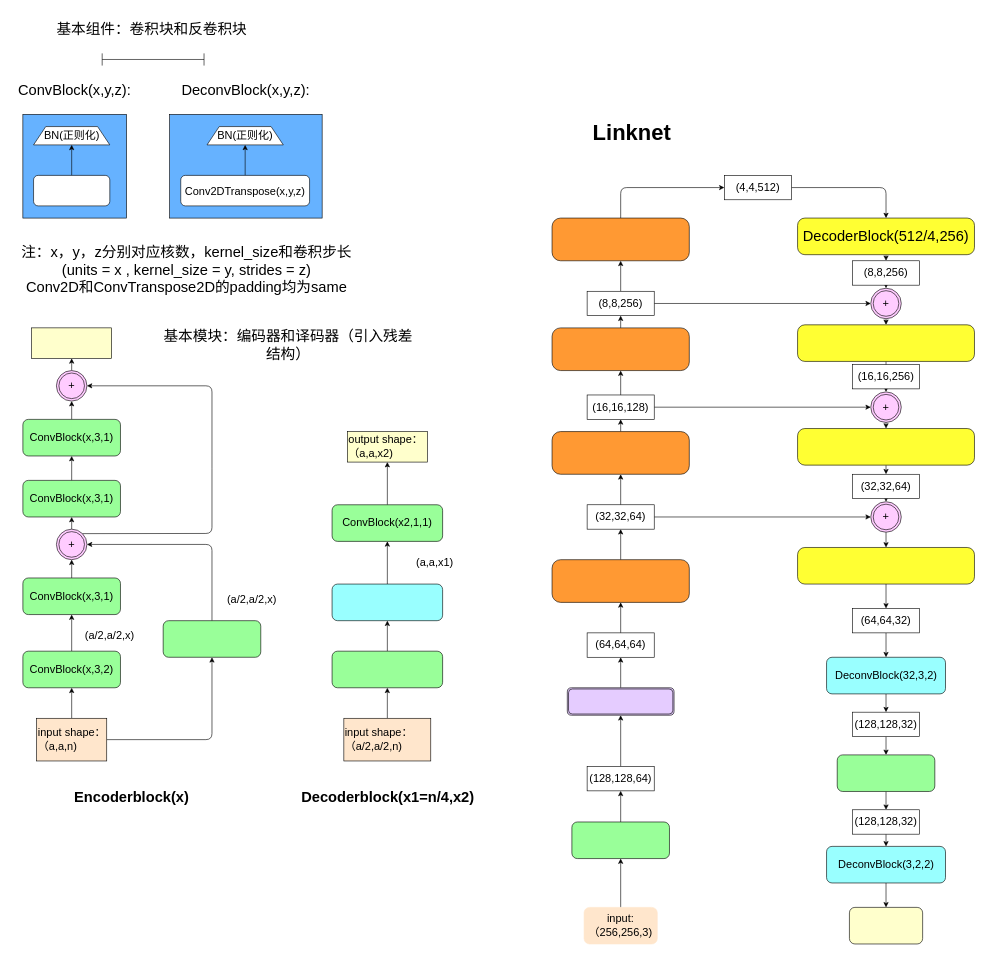
Image size: 985x955. Some labels were removed from this diagram. Here are the shapes that lost their labels. From the top down, the centre of each, then its label:
At (x=71, y=190): "Conv2D(x,y,z)".
At (x=620, y=239): "EncoderBlock(512)".
At (x=71, y=342): "output shape： （a/2,a/2,x)".
At (x=620, y=349): "EncoderBlock(256)".
At (x=885, y=342): "DecoderBlock(256/4,128)".
At (x=620, y=452): "EncoderBlock(128)".
At (x=885, y=446): "DecoderBlock(128/4,64)".
At (x=620, y=580): "EncoderBlock(64)".
At (x=885, y=565): "DecoderBlock(64/4,32)".
At (x=387, y=602): "DeConvBlock(n/4,3,2)".
At (x=212, y=638): "ConvBlock(x,1,2)".
At (x=387, y=669): "ConvBlock(n/4,1,1)".
At (x=620, y=701): "MaxPooling".
At (x=886, y=772): "ConvBlock(32,3,1)".
At (x=620, y=840): "ConvBlock(64,7,2)".
At (x=886, y=925): "output: （256,256,3)".
